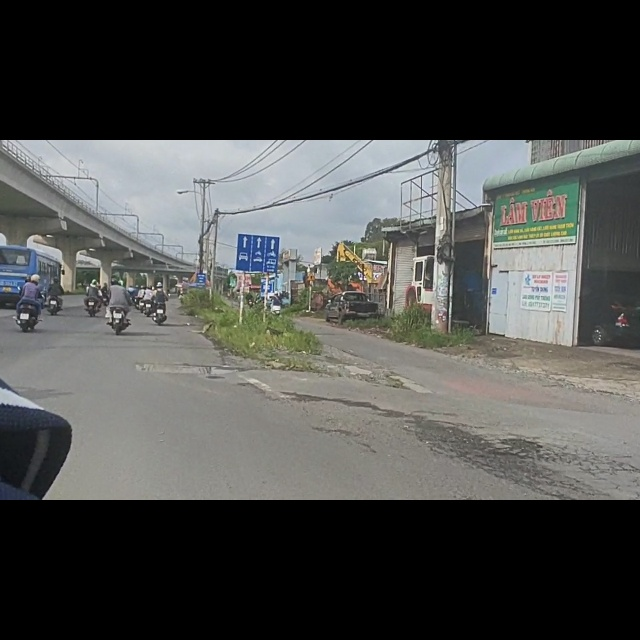bien_nguy_hiem: (235, 161, 283, 242), (305, 235, 319, 252)
